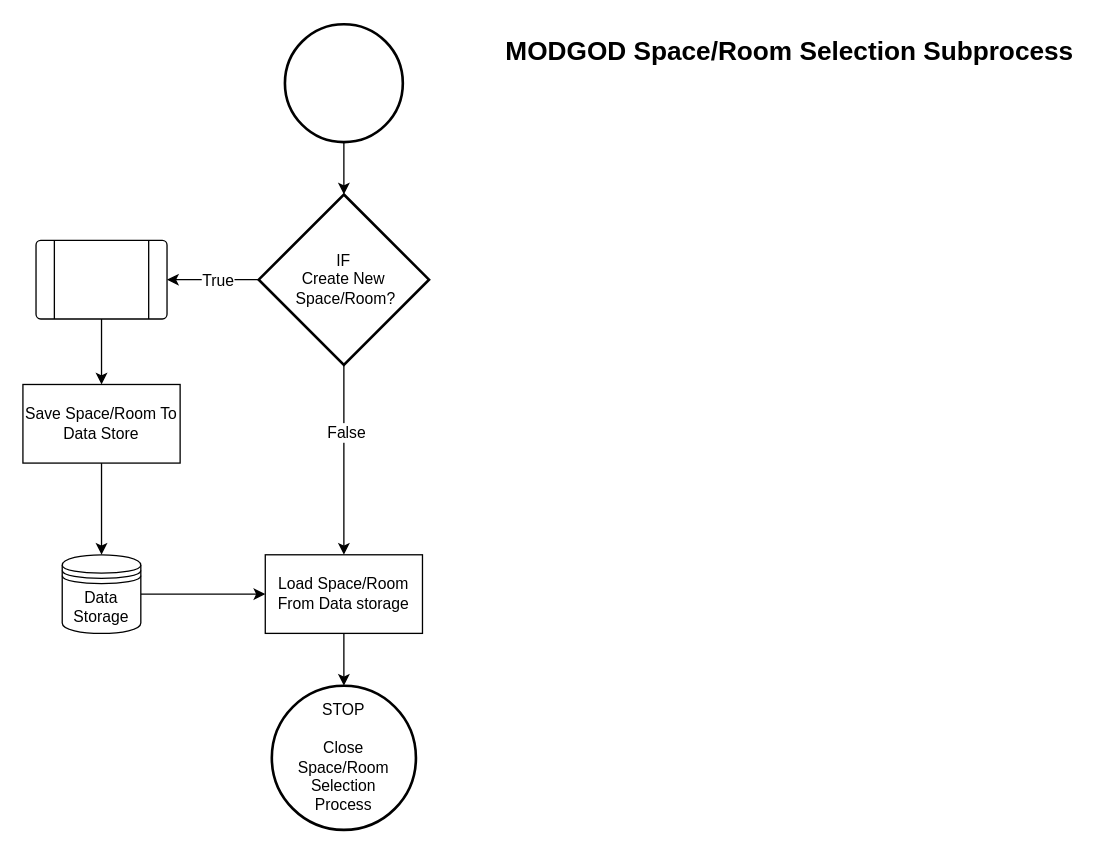
The diagram is 1095 pixels wide and 853 high, and some of its shapes have lost their labels. Here are the shapes that lost their labels. From the top down, the box of each, then its label:
(283, 22, 403, 143): START Open Space/Room
(35, 239, 167, 319): Create Space/Room Subprocess
